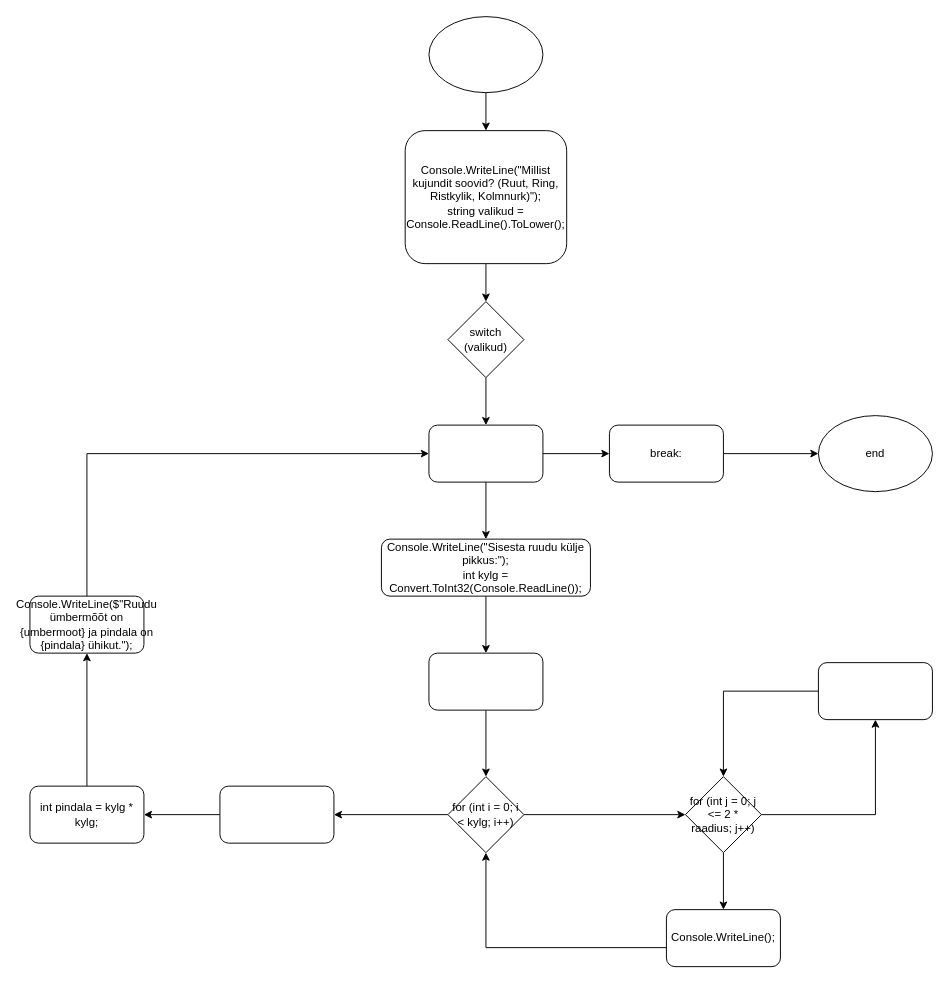
Some shapes in this 949 by 983 pixel diagram are drawn without their labels. The centre of each missing label's shape, as x and y in pixels:
Console.Write("*");: (874,691)
Console.WriteLine("Ruut:");: (485,681)
int umbermoot = 4 * kylg;: (276,814)
RuuduProgramm();: (485,453)
start: (485,54)
